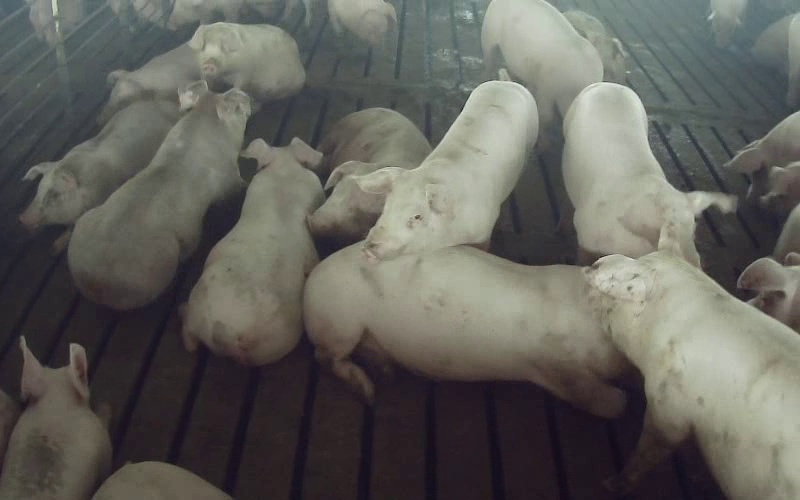pig: (585, 218, 799, 499), (304, 243, 628, 416), (68, 81, 250, 309), (355, 68, 537, 260), (183, 138, 324, 365), (563, 82, 736, 265), (20, 100, 180, 228), (0, 337, 111, 499), (308, 108, 431, 244), (481, 0, 602, 125), (189, 22, 304, 101), (98, 43, 200, 124)
